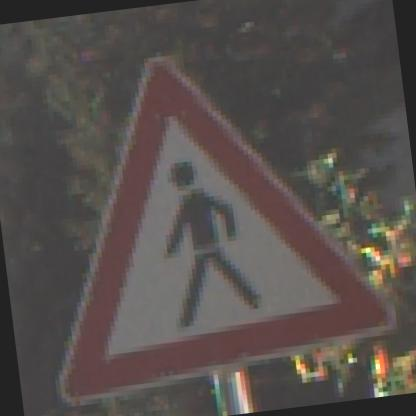crosswalk: (12, 10, 415, 416)
